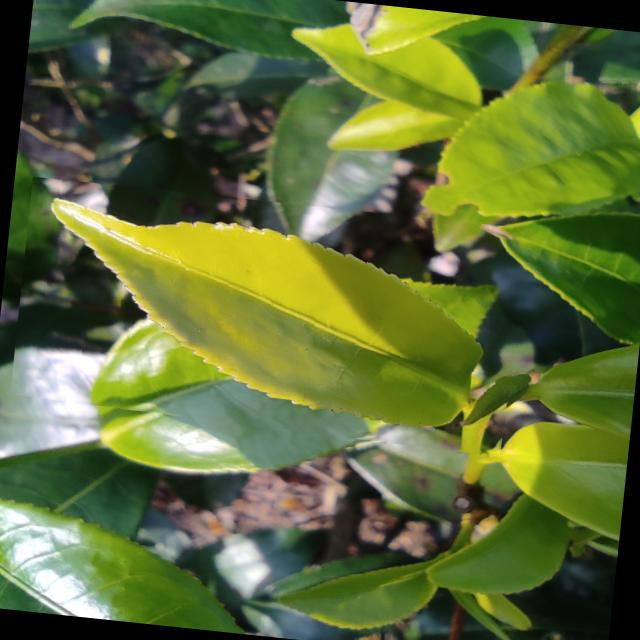Category B(2-4 days): (8, 176, 530, 457)
